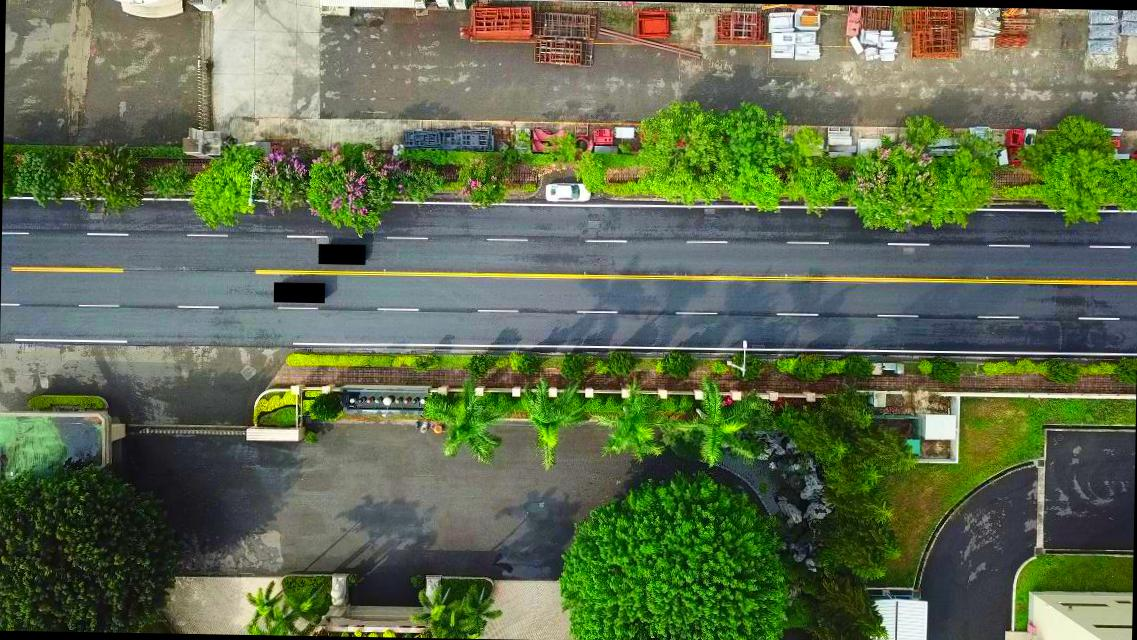vehicle: (544, 182, 591, 206)
